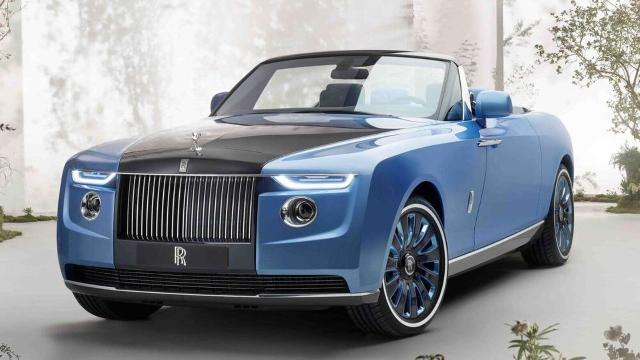rolls-royce: (57, 49, 575, 338)
